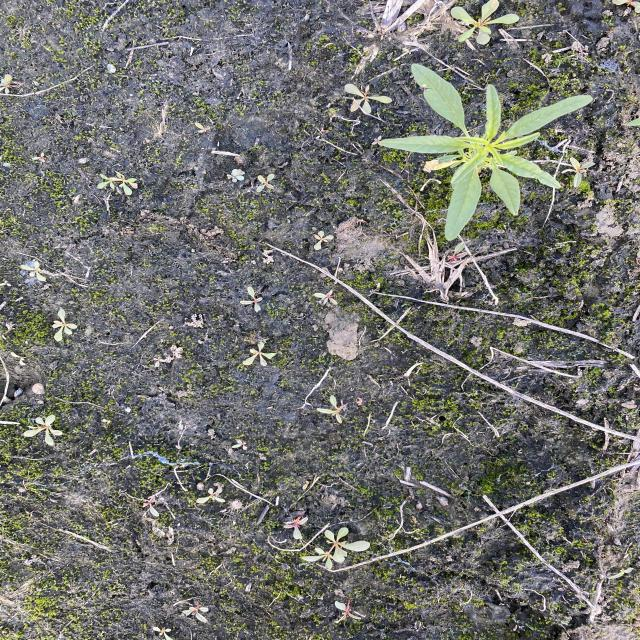Carpetweed: (448, 0, 523, 48), (300, 524, 373, 569), (342, 80, 396, 118), (22, 414, 62, 446)
Waterhemp: (374, 62, 595, 243)
